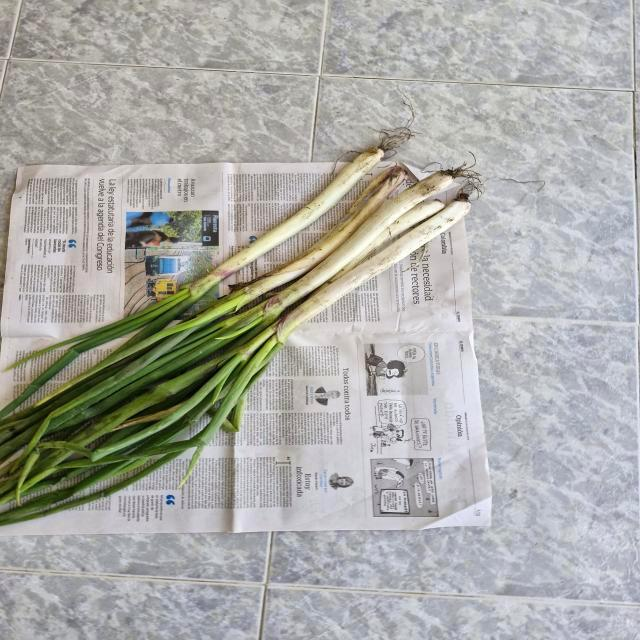green_onion: (0, 120, 490, 556)
